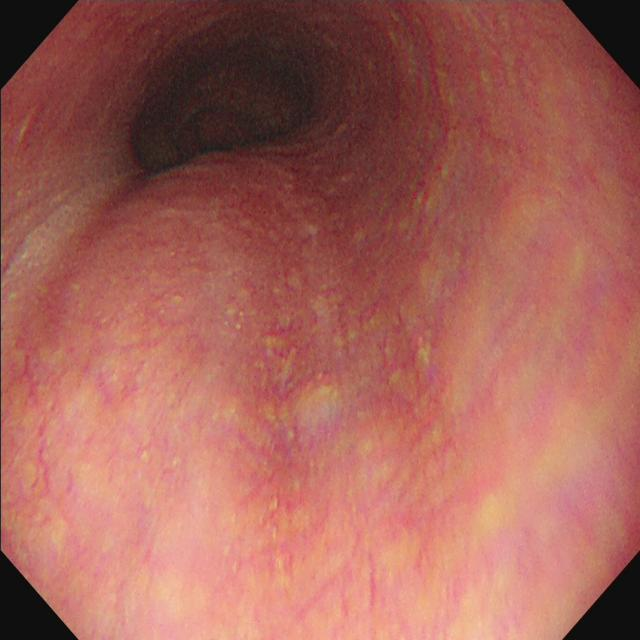D: (245, 299, 308, 531)
E: (120, 24, 331, 184)
